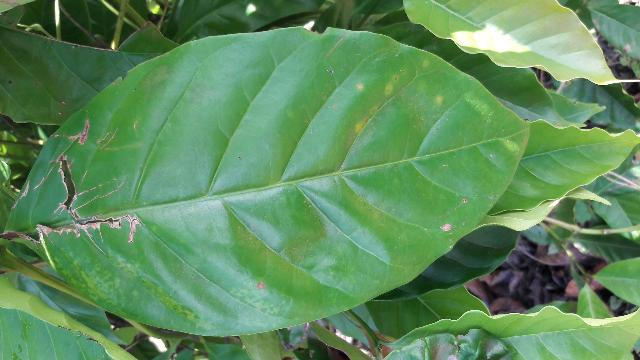rust_level_1: (5, 32, 528, 332)
